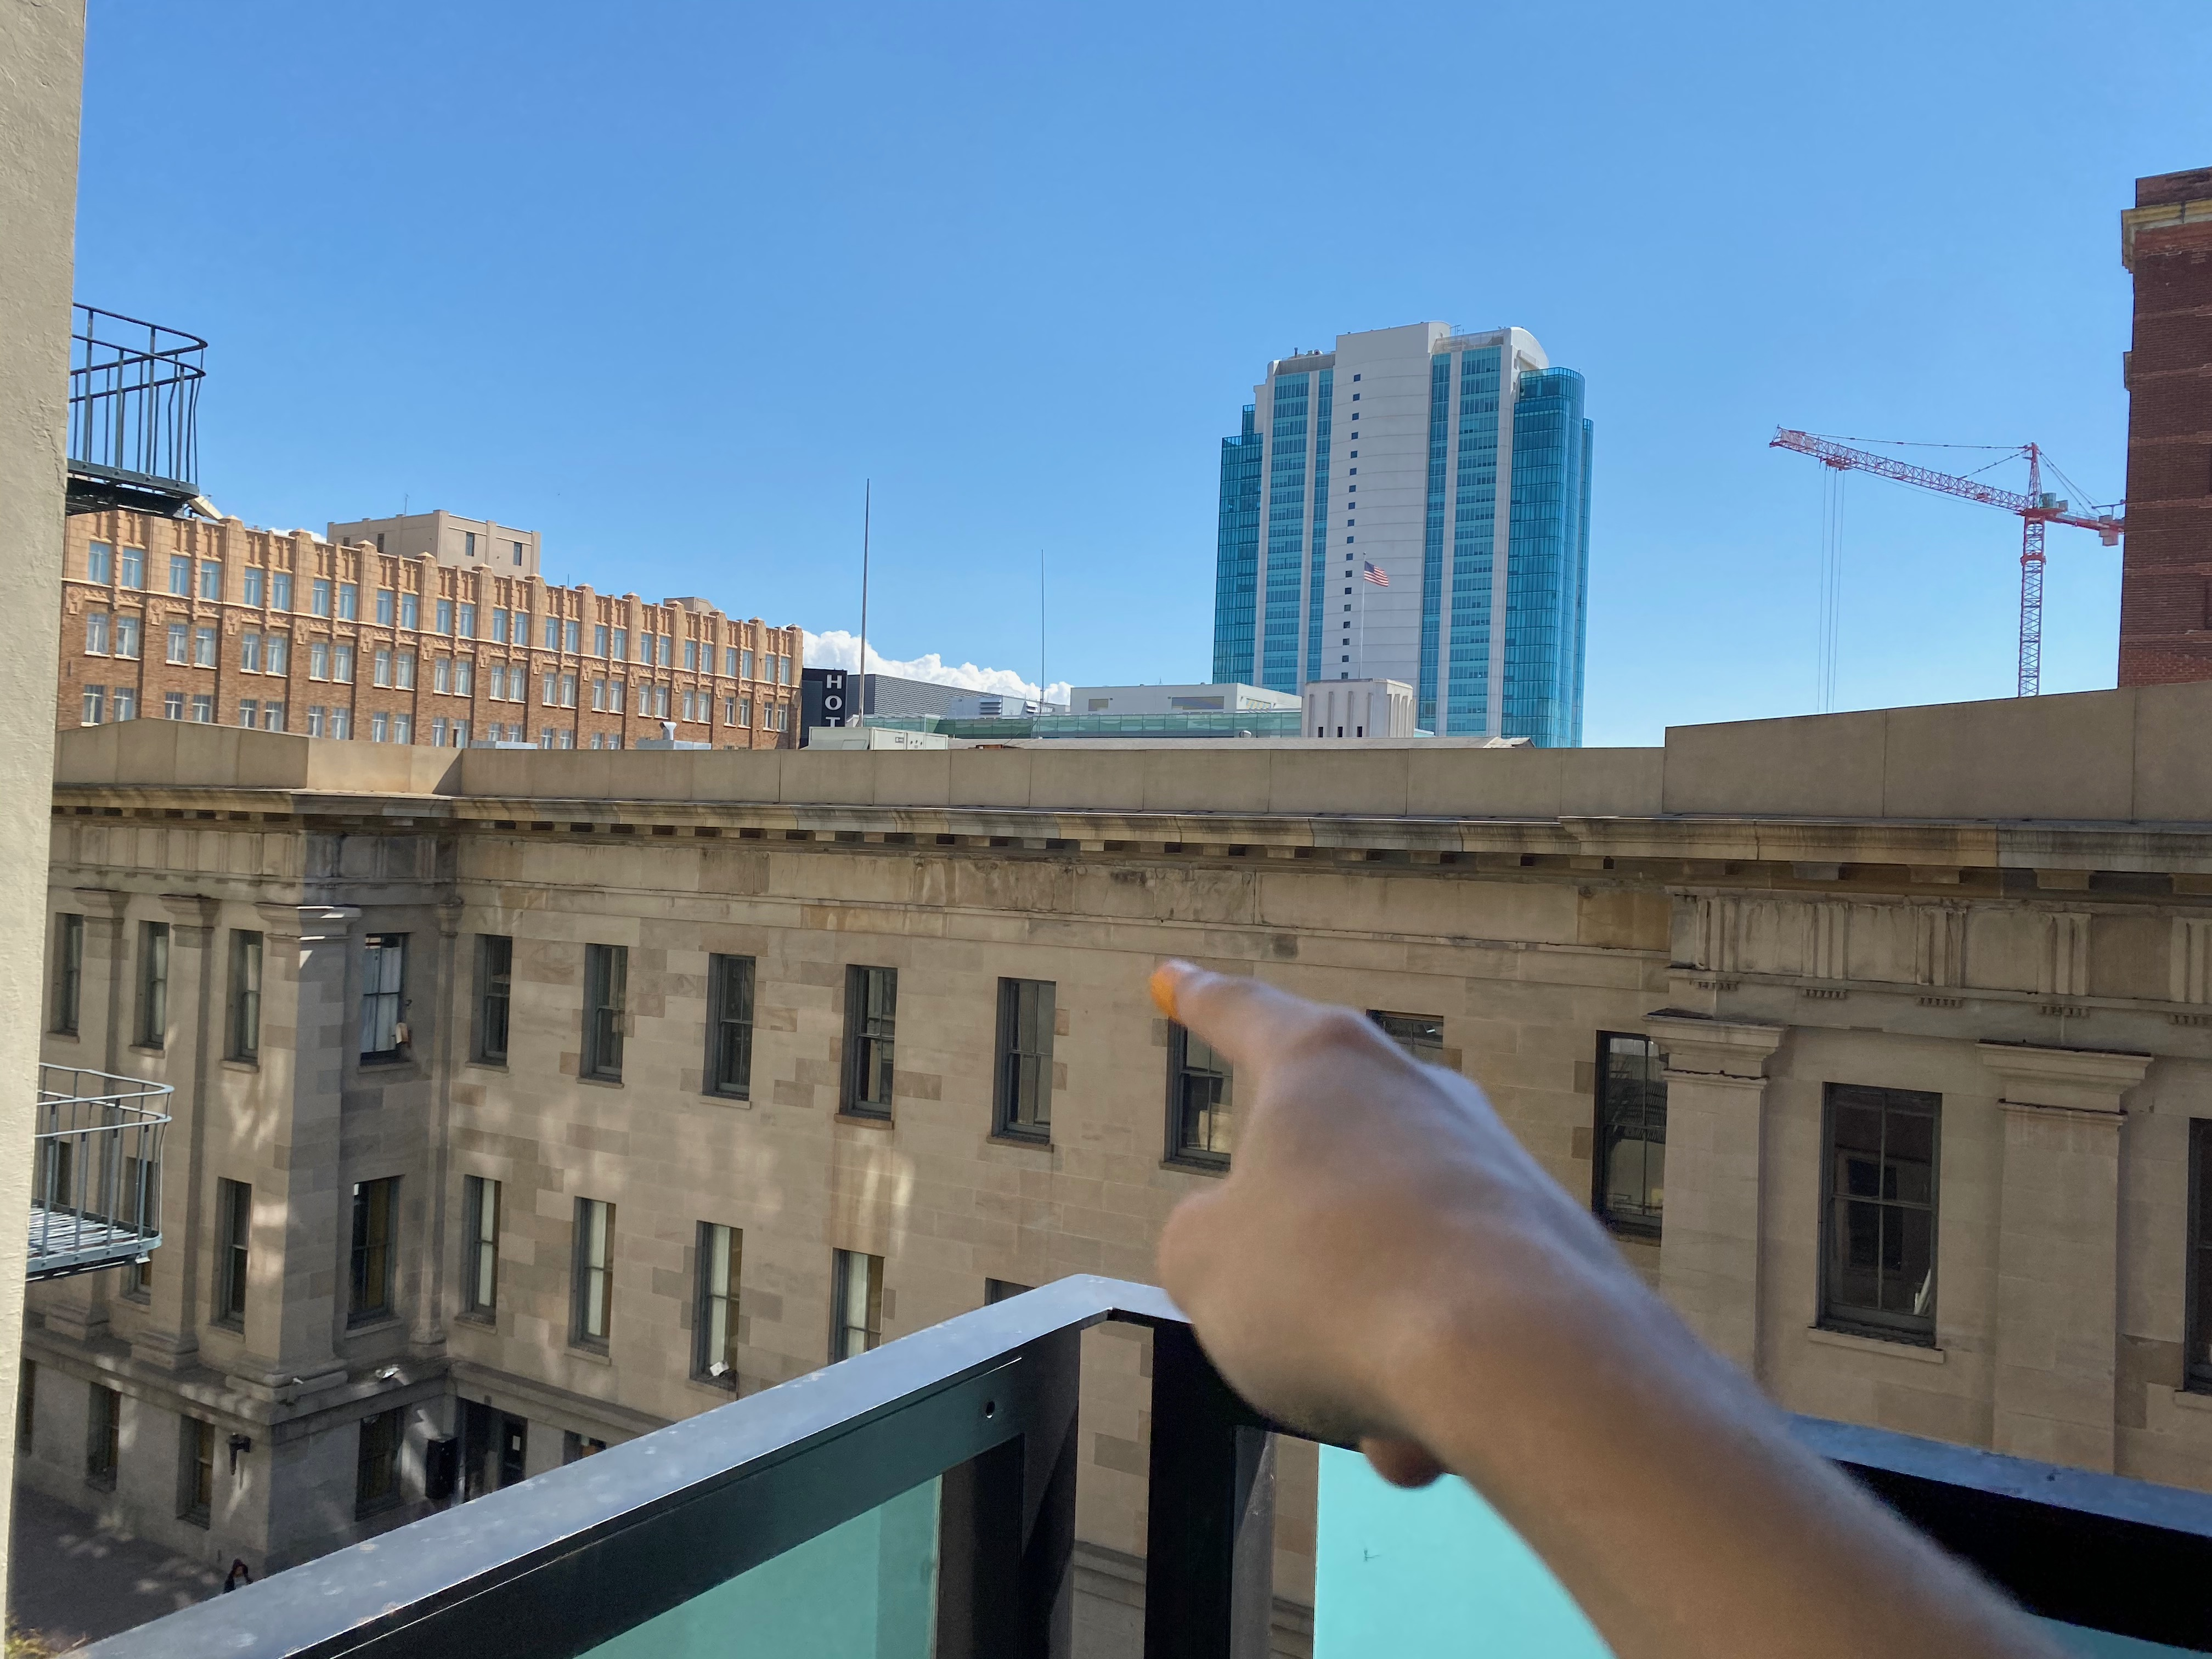fingertip: (1129, 950, 1233, 1047)
